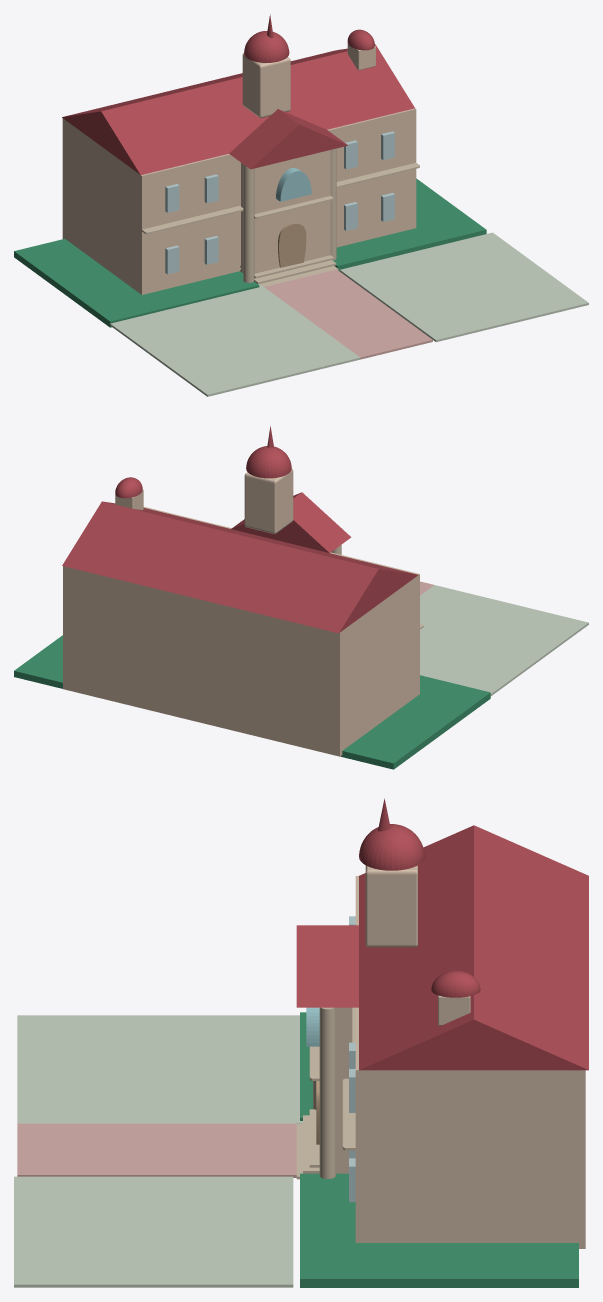
Rendered from Epic Jaagub-Habbi.glb.
3 views of the same model, one above another, from view 1: azimuth 30°, elevation 25°; view 2: azimuth 150°, elevation 25°; view 3: azimuth 270°, elevation 25° (orthographic). The views are drawn at different scales.
Parts seen in each view (by area): view 1: Mesh_Mesh_head_geo.001_lambert2SG.001; view 2: Mesh_Mesh_head_geo.001_lambert2SG.001; view 3: Mesh_Mesh_head_geo.001_lambert2SG.001.
Part boxes in pixels (x1,y1,x2,y2): Mesh_Mesh_head_geo.001_lambert2SG.001: (14, 14, 588, 396); Mesh_Mesh_head_geo.001_lambert2SG.001: (14, 426, 588, 769); Mesh_Mesh_head_geo.001_lambert2SG.001: (14, 798, 588, 1287).
Size of the model in its own units: 0.194 by 0.12 by 0.175.
